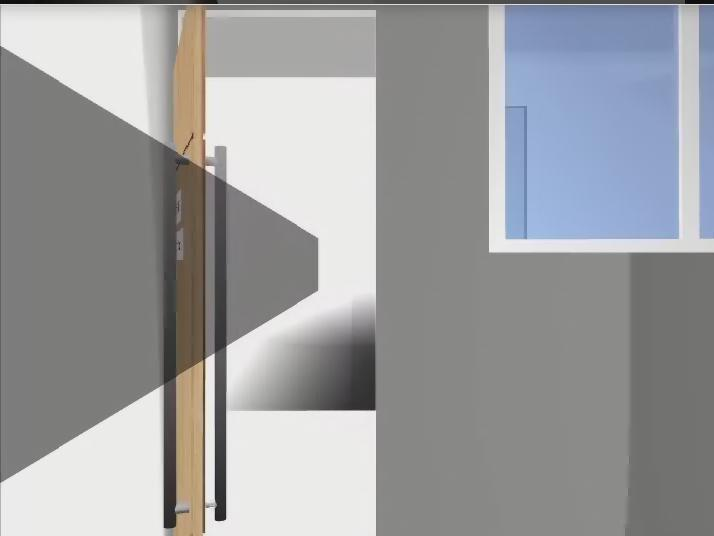door: (165, 5, 225, 536)
